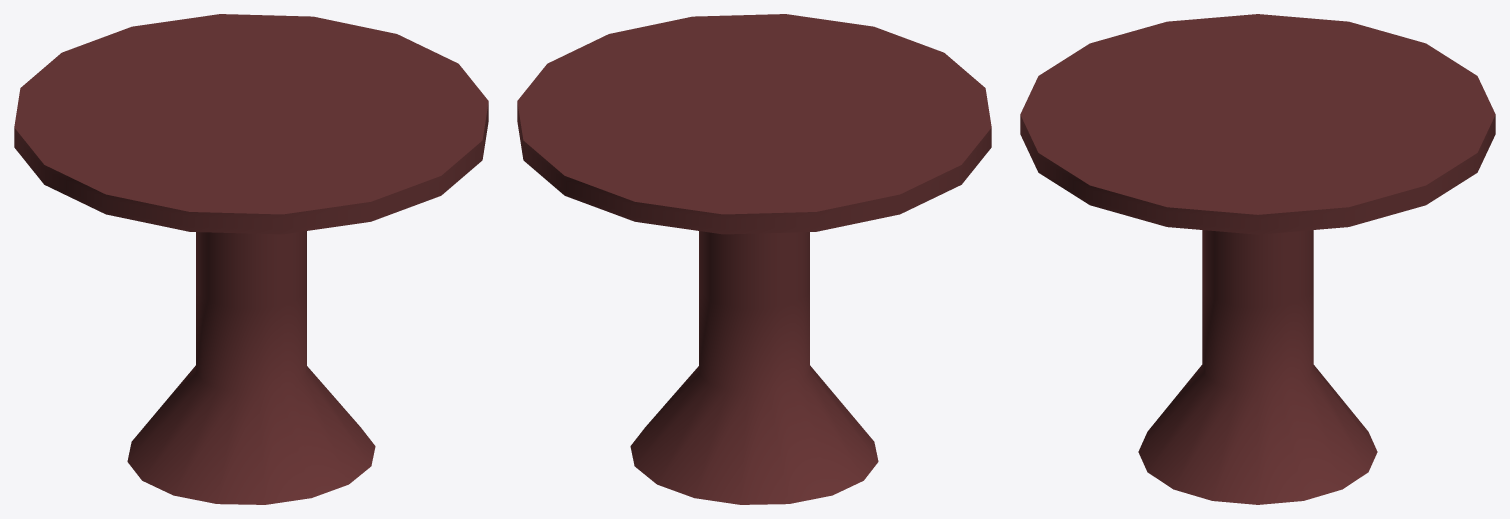
Rendered from one leg  Table.fbx.
3 renders of one model, left to right at view 1: azimuth 30°, elevation 25°; view 2: azimuth 150°, elevation 25°; view 3: azimuth 270°, elevation 25°, orthographic.
Visible parts, largest first — view 1: Cylinder, Cylinder_1; view 2: Cylinder, Cylinder_1; view 3: Cylinder, Cylinder_1.
Boxes of the visible parts, x1,y1,x2,y2 form: Cylinder: [14, 14, 488, 234]; Cylinder_1: [127, 231, 375, 504]; Cylinder: [517, 14, 991, 234]; Cylinder_1: [630, 231, 878, 504]; Cylinder: [1020, 14, 1495, 234]; Cylinder_1: [1138, 230, 1377, 504].
Bounding box in the file's own units: 277 × 217 × 277.
